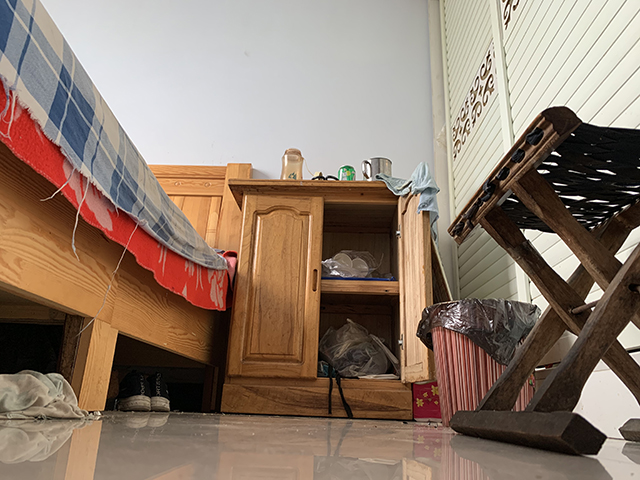bed: (1, 1, 255, 417)
cabinet: (424, 1, 640, 442), (219, 176, 435, 420)
stool: (442, 105, 640, 456)
trashcan: (415, 297, 542, 429)
